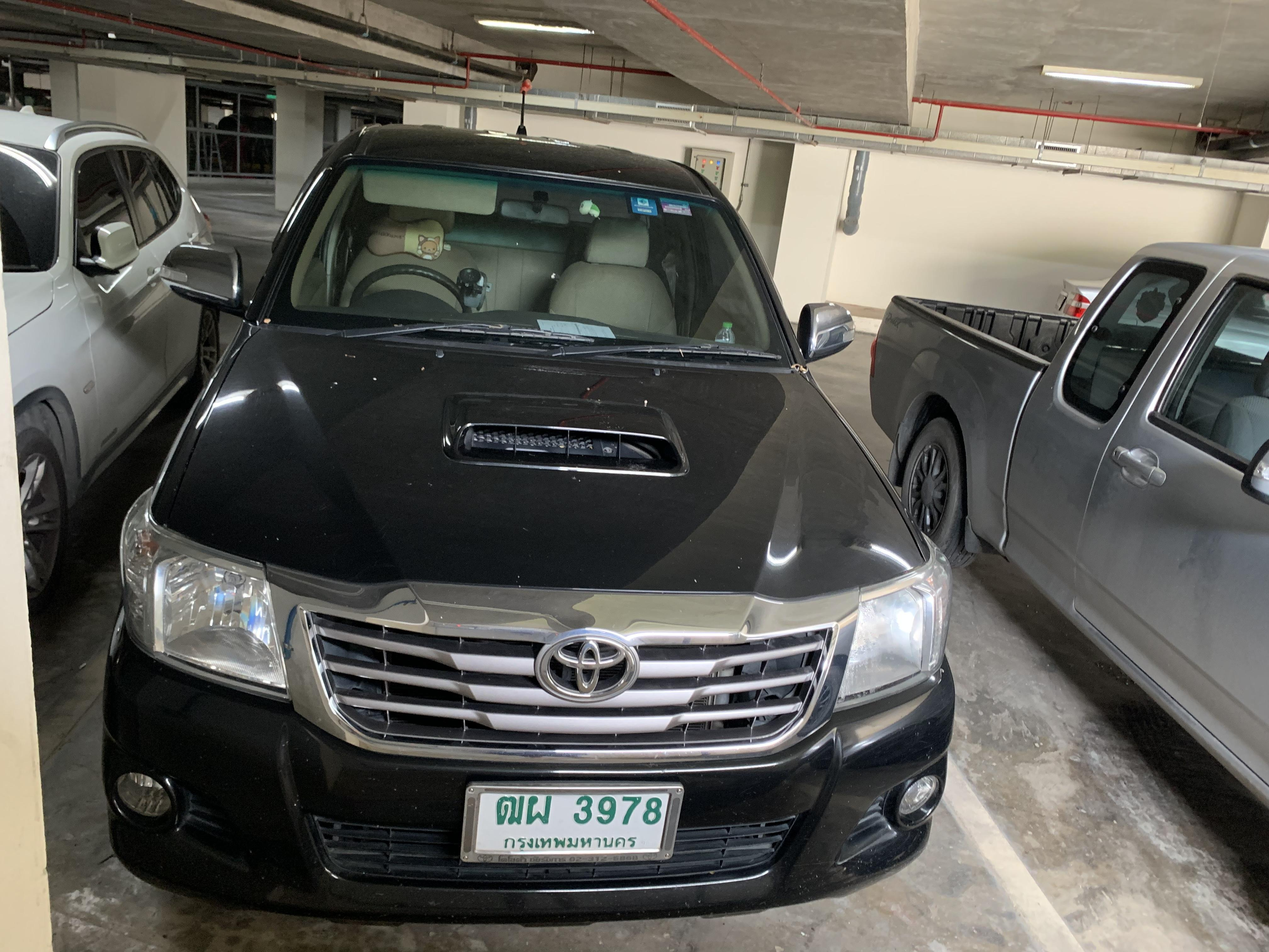license-plate: (459, 778, 684, 867)
